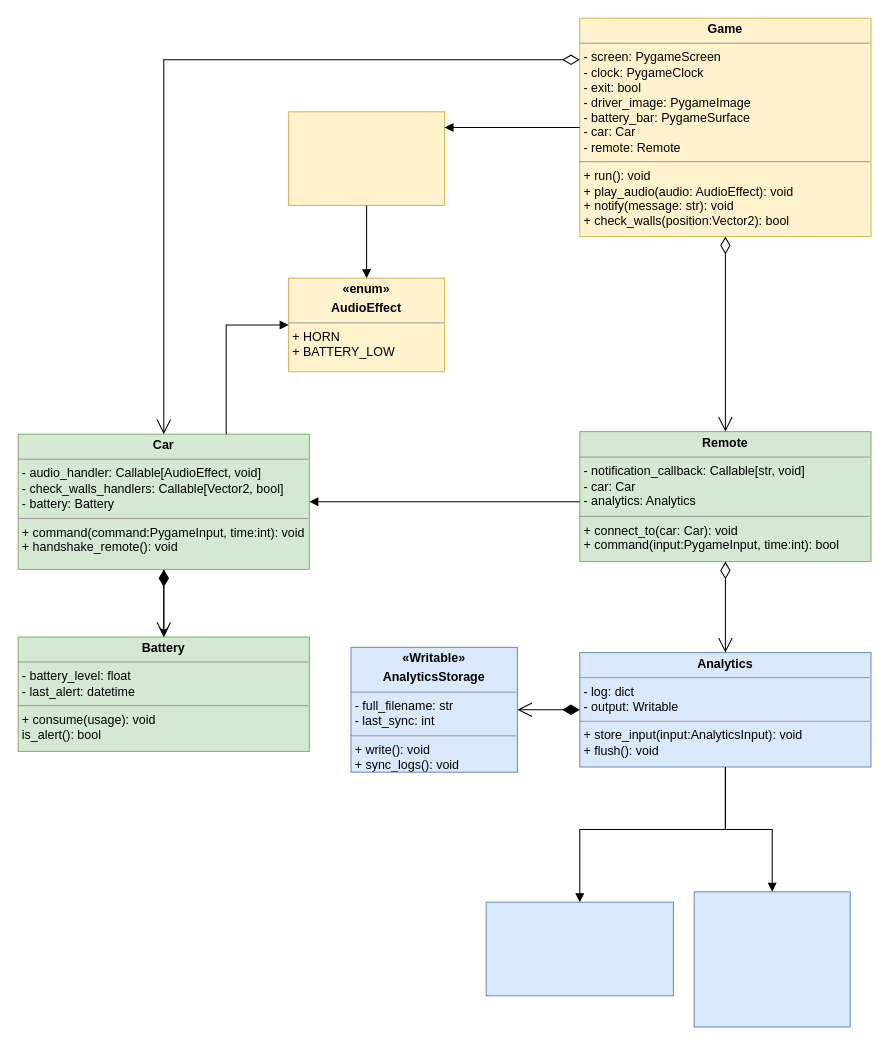
Some shapes in this 889 by 1045 pixel diagram are drawn without their labels. Each missing label, with the centre of its shape:
AudioEffectDef - channel: int - path: string: point 366,158
CustomEncoder + default(o:str): str: point 579,948
«enum» AnalyticsInput + STEER + ACCELERATE + BRAKE + REVERSE + HONK: point 771,959
